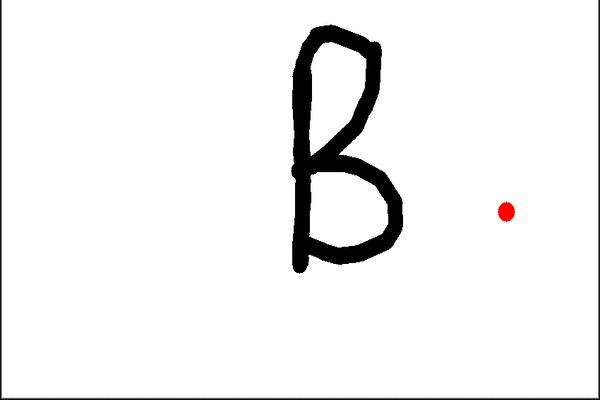B: (280, 19, 413, 284)
